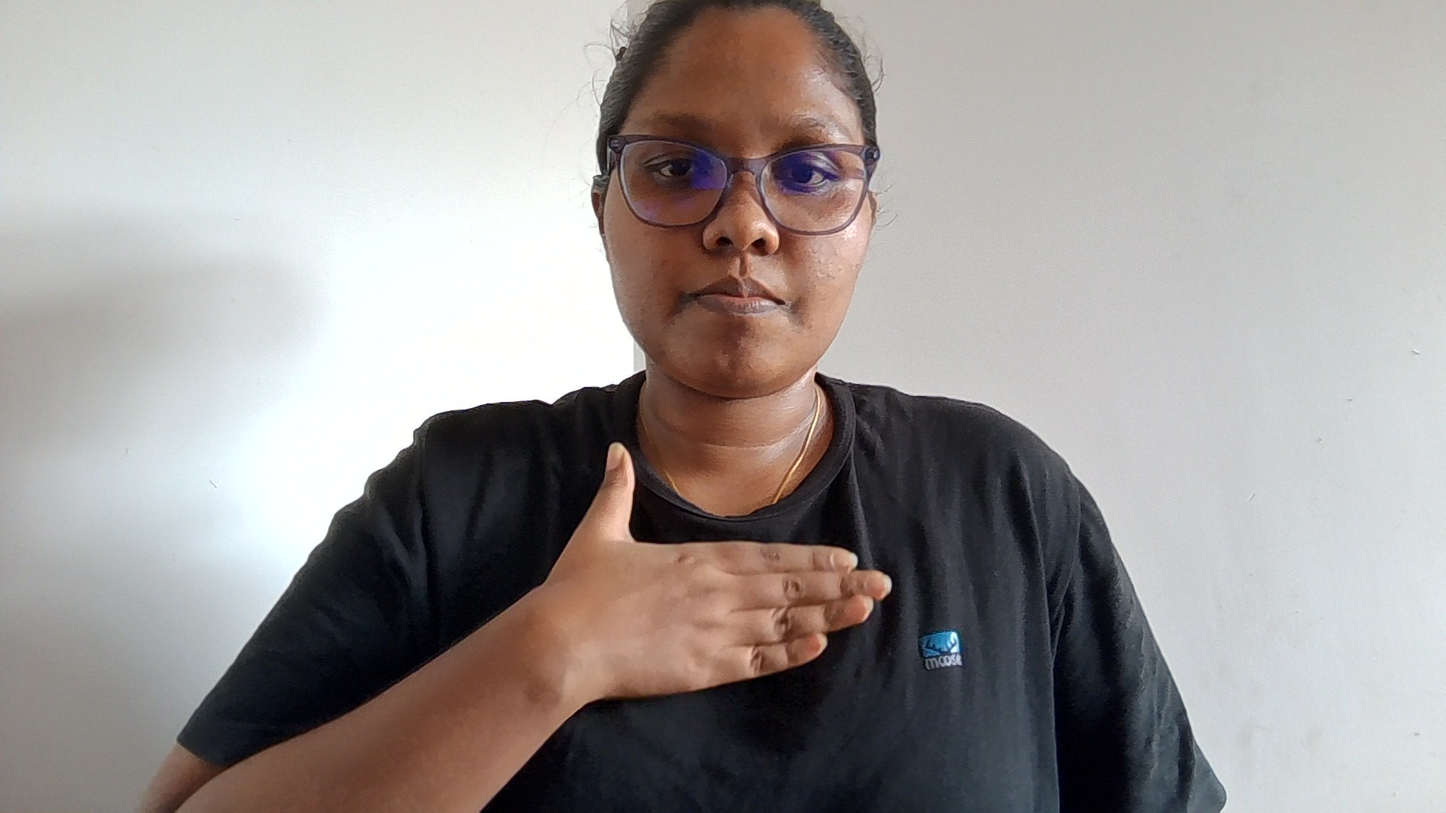Please: (499, 396, 926, 719)
